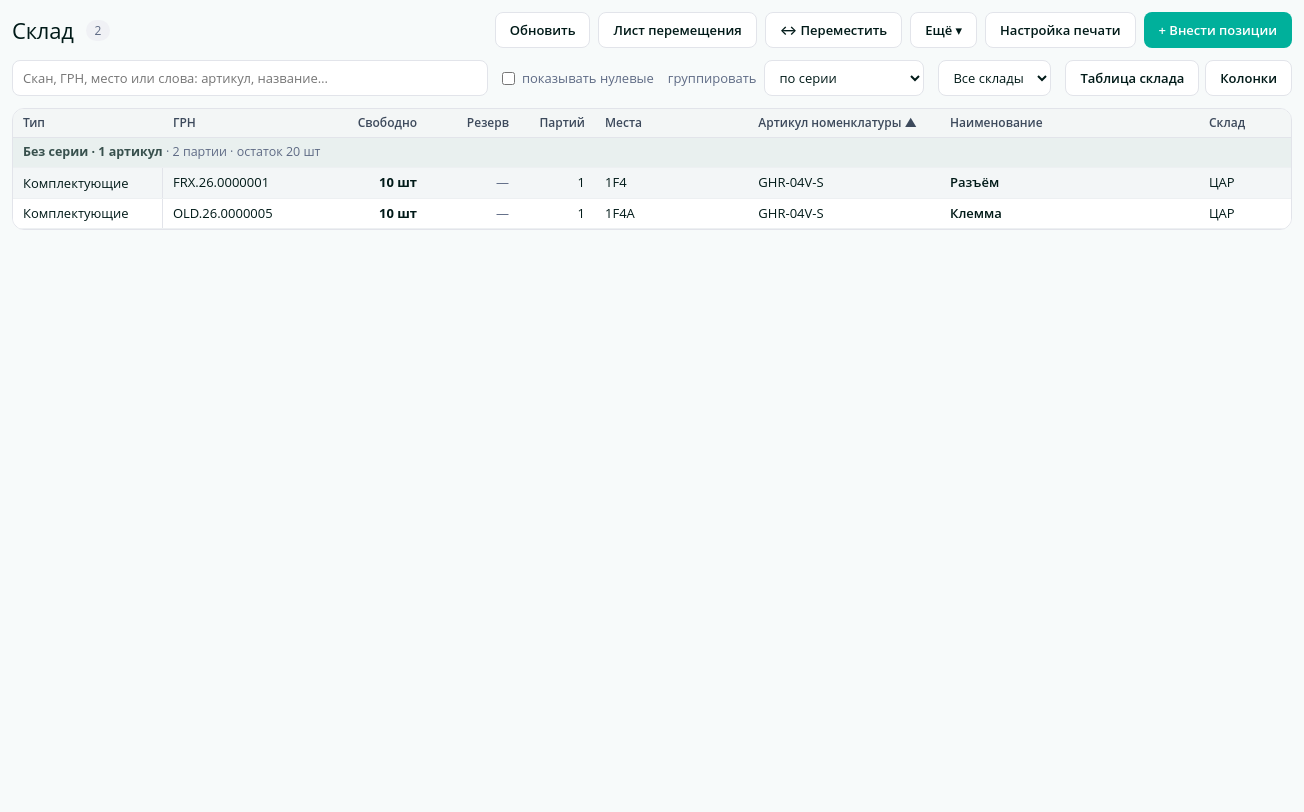
Test: a scanned ГРН opens its card; Enter in the quantity writes off through the existing endpoint
The image size is (1304, 812).
Type "frx.26.0000001" into the field named "Поиск по складу".
click(250, 78); type("frx.26.0000001")  # box [12, 60, 488, 96]
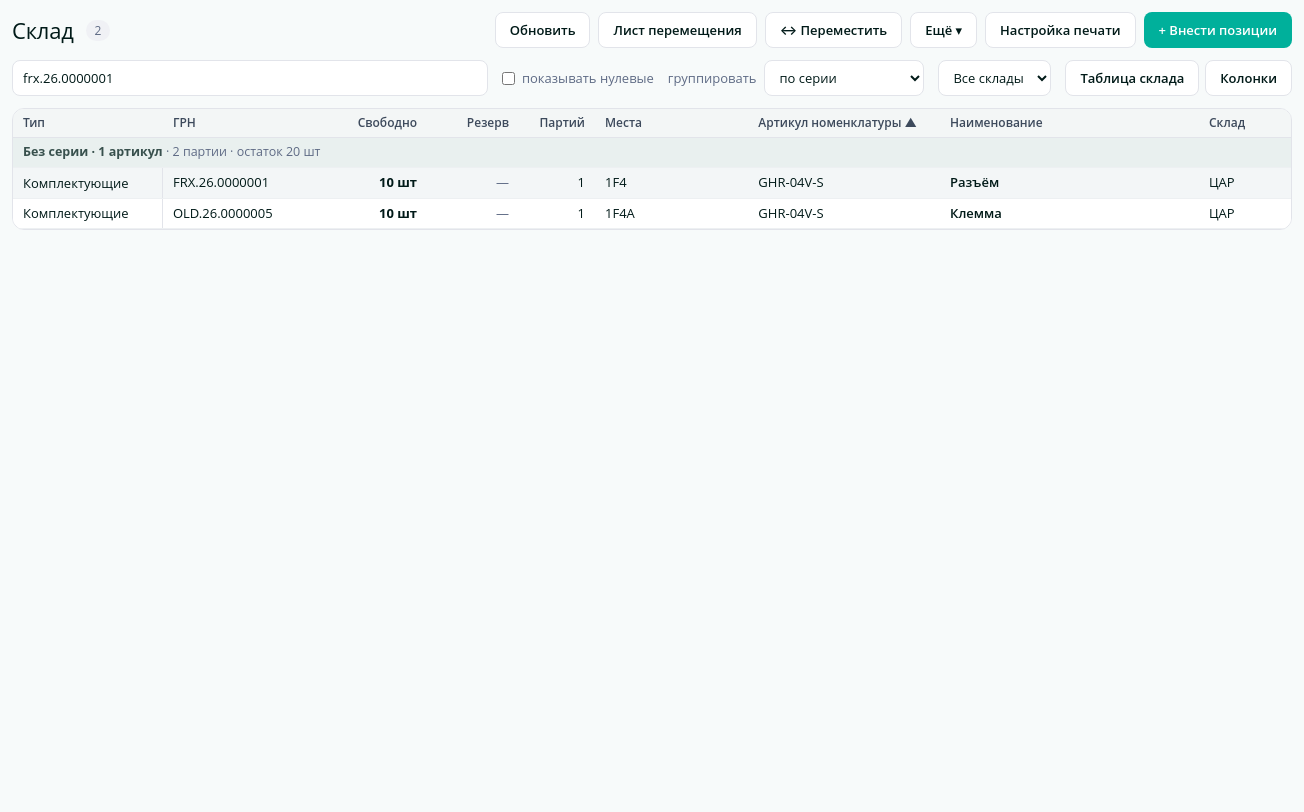
Submit the form named "Поиск по складу", box [12, 60, 488, 96]
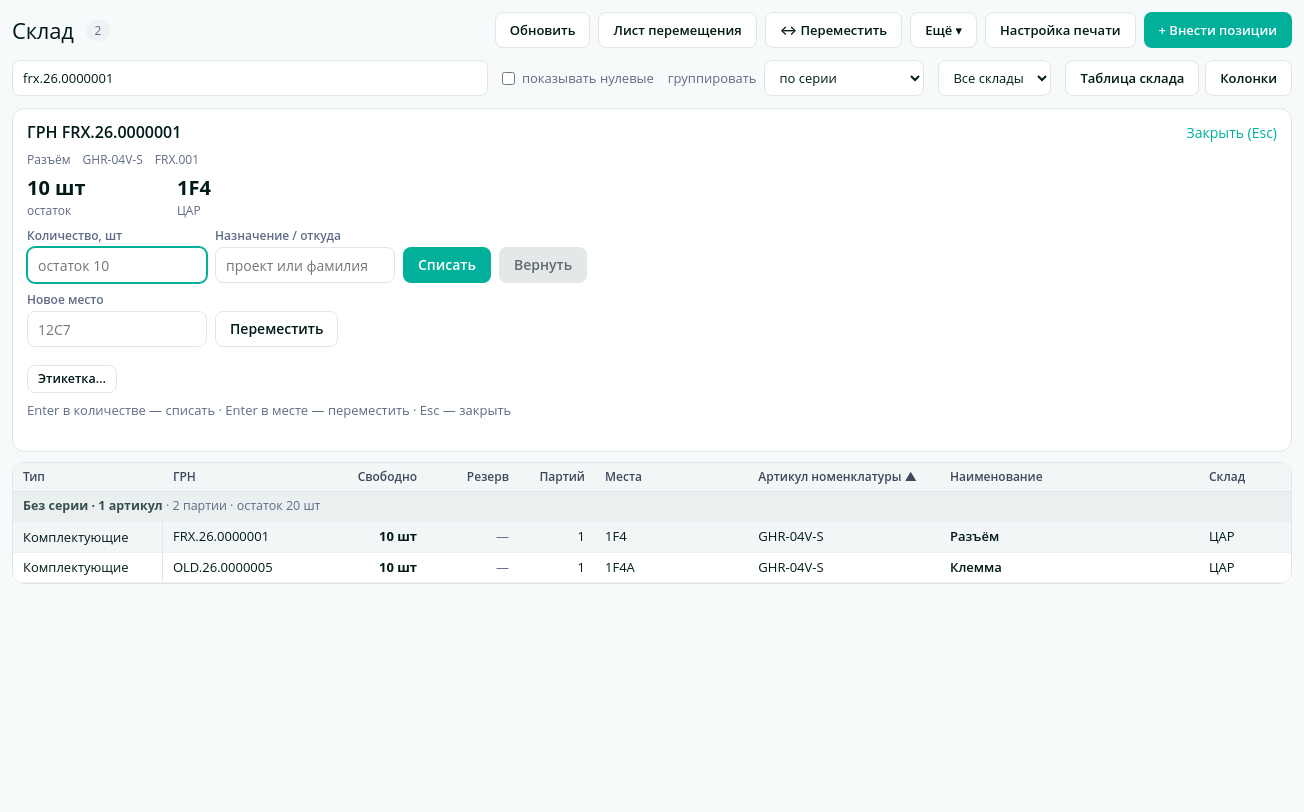
Type "2" into the field labelled "Количество".
click(117, 265); type("2")  # box [27, 247, 207, 283]
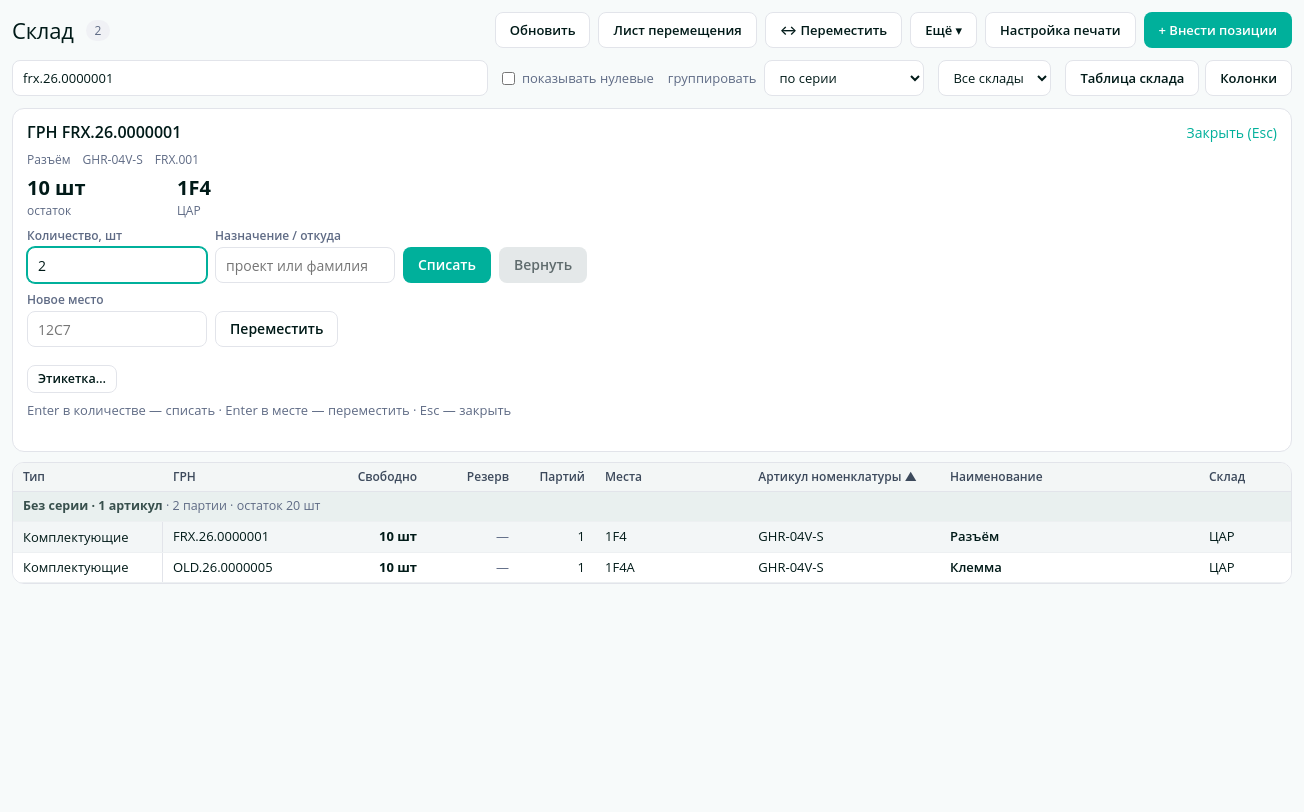
Type "FRX.001" into the field named "Назначение или откуда".
click(305, 265); type("FRX.001")  # box [215, 247, 395, 283]
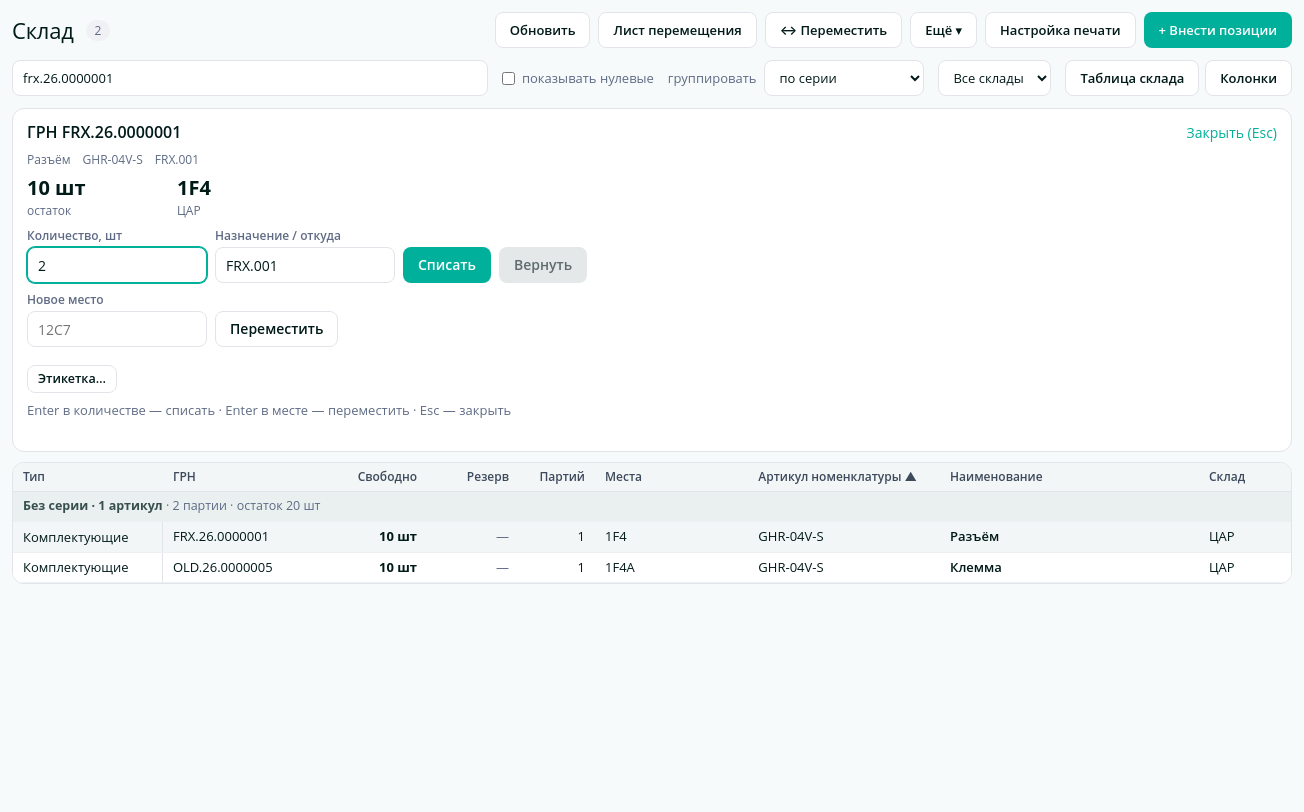
Submit the form labelled "Количество", box [27, 227, 587, 283]
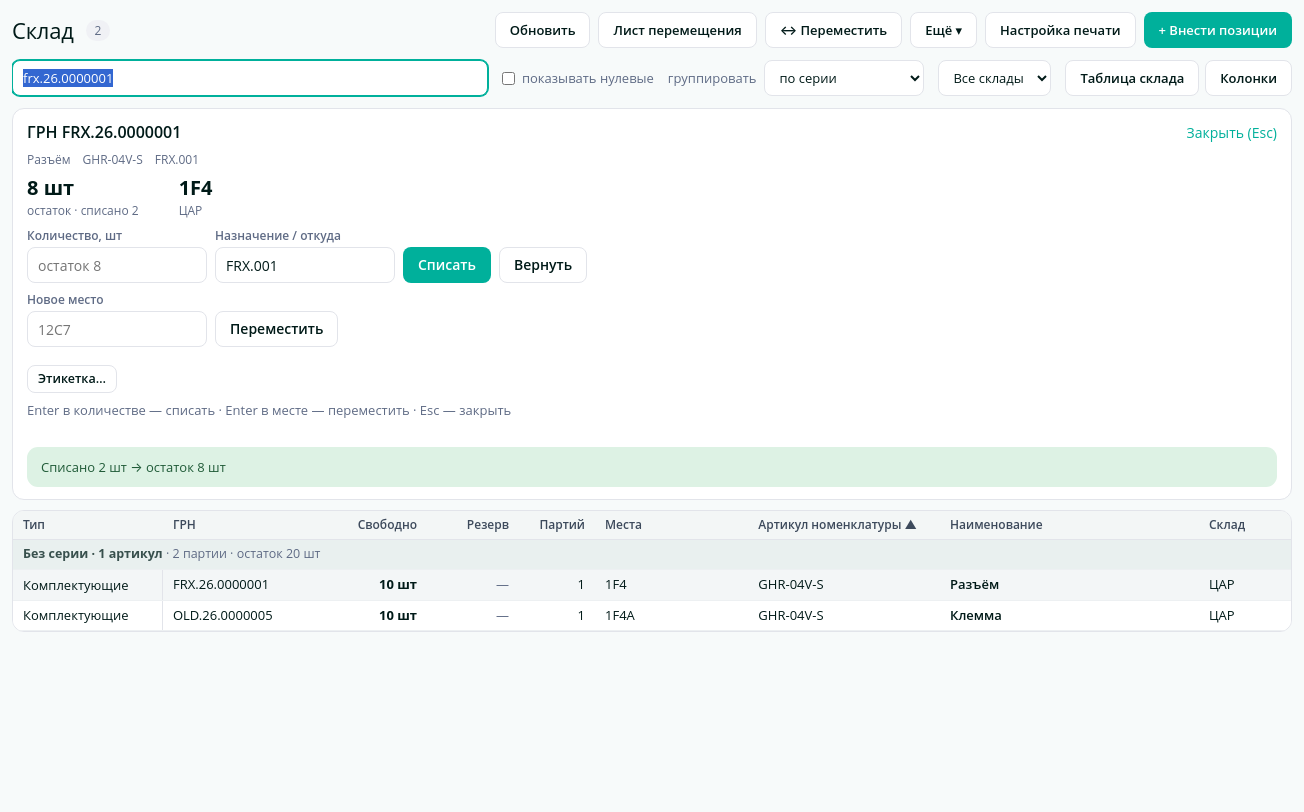
Now the message reads "Списано 2 шт → остаток 8 шт", box [41, 458, 226, 476]
Now the text "8 шт" is shown, box [27, 174, 74, 201]
